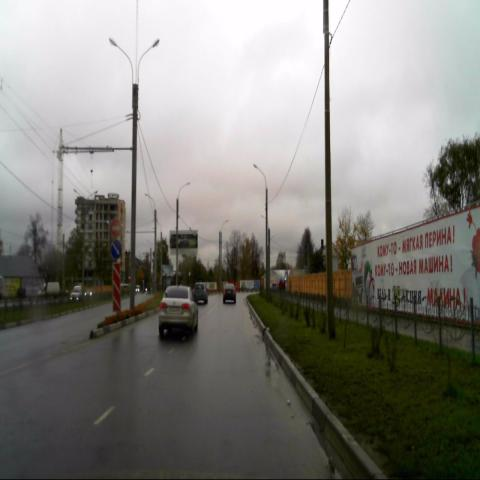3_1: (110, 218, 122, 238)
